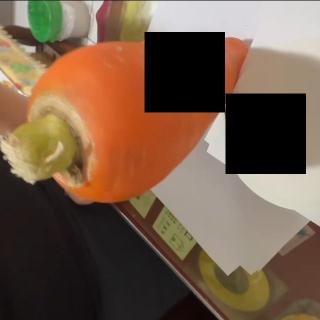carrot: (3, 35, 252, 204)
